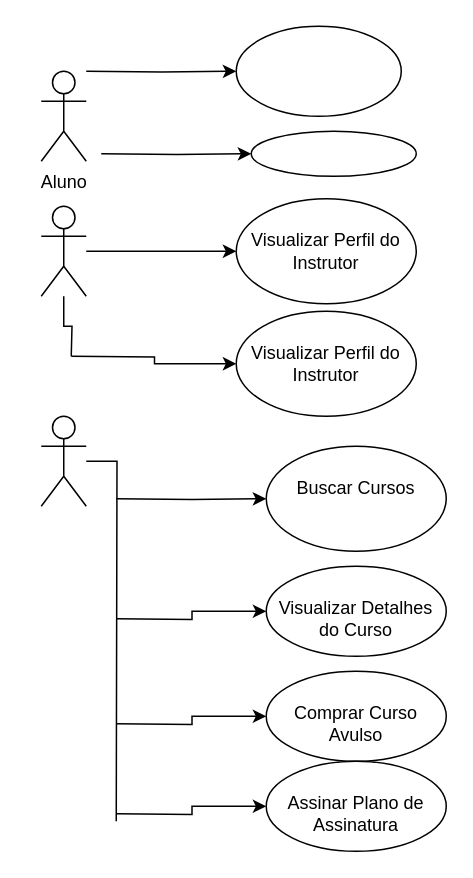
Image size: 473x878. Some labels were removed from this diagram. The box of each missing label's shape, as (x1, y1, x2, y2) in pixels:
Avaliar Curso: (250, 130, 416, 176)
Professor: (40, 205, 86, 296)
Usuário: (40, 415, 86, 506)
Ver Histórico de Cursos: (235, 25, 401, 116)
